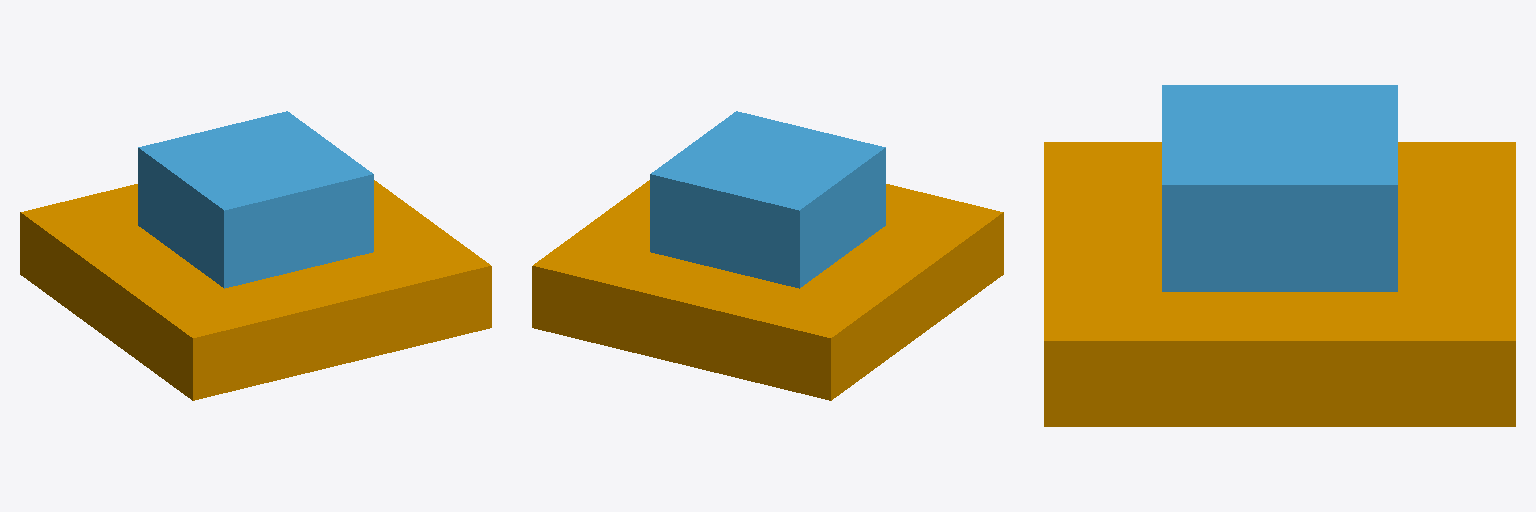
robot.urdf — link_ghost_link_inertial_zero:
<?xml version="1.0"?>
<robot name="link_ghost_link_inertial_zero">
  <link name="BaseLink">
    <visual>
      <geometry>
        <box size="1.0 1.0 0.2"/>
      </geometry>
    </visual>
    <collision>
      <geometry>
        <box size="1.0 1.0 0.2"/>
      </geometry>
    </collision>
  </link>
  <link name="boxLink">
    <visual>
      <geometry>
        <box size="0.5 0.5 0.5"/>
      </geometry>
    </visual>
    <collision>
      <geometry>
        <box size="0.5 0.5 0.5"/>
      </geometry>
    </collision>
  </link>

  <link name="ghost_link_zero_mass">
    <inertial>
      <origin xyz="0 0 0" rpy="0 0 0"/>
      <mass value="0.0"/>
      <inertia ixx="0.0" ixy="0.0" ixz="0.0" iyy="0.0" iyz="0.0" izz="0.0"/>
    </inertial>
  </link>
  <link name="ghost_link_no_inertia">
    <inertial>
      <origin xyz="0 0 0" rpy="0 0 0"/>
      <mass value="0.0"/>
    </inertial>
  </link>

  <joint name="joint1" type="fixed">
    <origin rpy="0 0 0" xyz="0 0 0.1"/>
    <parent link="BaseLink"/>
    <child link="boxLink"/>
  </joint>

  <joint name="joint_zero_mass" type="fixed">
    <origin rpy="0 0 0" xyz="0 0 0.1"/>
    <parent link="boxLink"/>
    <child link="ghost_link_zero_mass"/>
  </joint>
  <joint name="joint_no_inertia" type="fixed">
    <origin rpy="0 0 0" xyz="0 0 0.1"/>
    <parent link="boxLink"/>
    <child link="ghost_link_no_inertia"/>
  </joint>

</robot>

--- Render facts (derived) ---
3 views of the same robot in one strip: view 1: azimuth 30°, elevation 25°; view 2: azimuth 150°, elevation 25°; view 3: azimuth 270°, elevation 25° (orthographic).
Robot: link_ghost_link_inertial_zero — 4 links, 3 joints (3 fixed); root link BaseLink; default pose: all joints at 0.
Links seen in each view (by area): view 1: BaseLink, boxLink; view 2: BaseLink, boxLink; view 3: BaseLink, boxLink.
Link boxes in pixels (bbox=[...]): BaseLink: bbox=[20, 180, 491, 400]; boxLink: bbox=[138, 111, 373, 288]; BaseLink: bbox=[532, 180, 1003, 400]; boxLink: bbox=[650, 111, 885, 288]; BaseLink: bbox=[1044, 142, 1515, 426]; boxLink: bbox=[1162, 85, 1397, 291].
Size in the robot's own frame: 1 by 1 by 0.5 metres.
Geometry: primitives only (box / cylinder / sphere), no mesh files.
